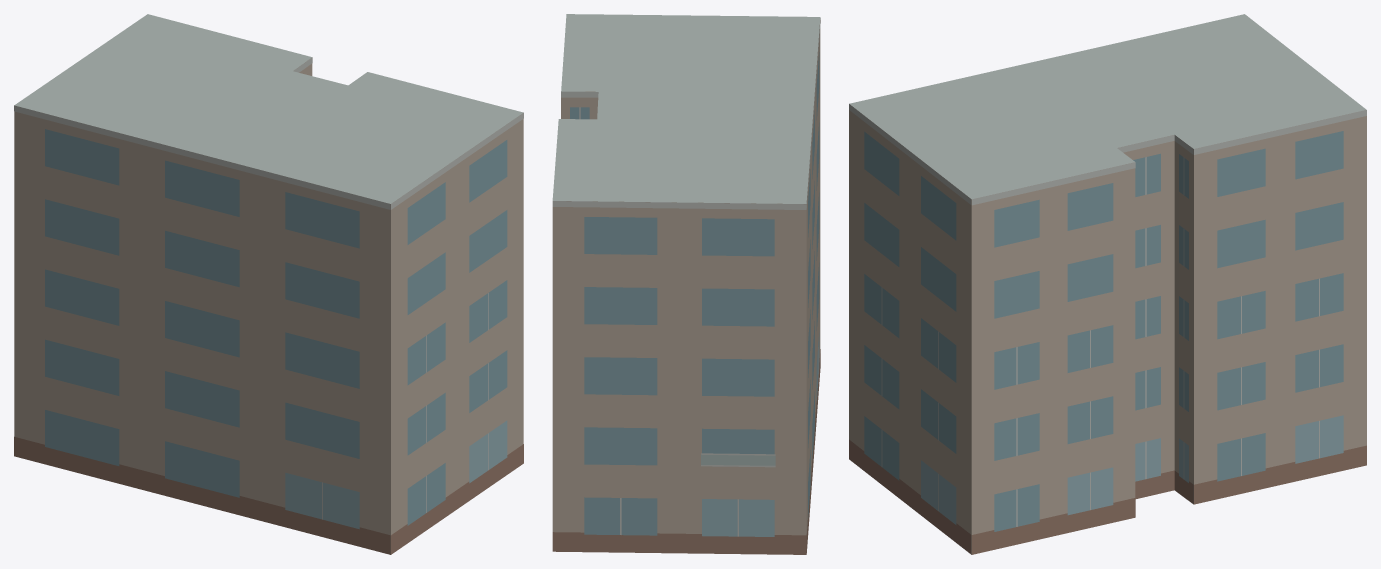
Rendered from survey-upis-32707307.glb.
3 renders of one model, left to right at view 1: azimuth 30°, elevation 25°; view 2: azimuth 150°, elevation 25°; view 3: azimuth 270°, elevation 25°, orthographic.
Visible parts, largest first — view 1: survey-upis-32707307.tmp; view 2: survey-upis-32707307.tmp; view 3: survey-upis-32707307.tmp.
Part boxes in pixels (x1,y1,x2,y2): survey-upis-32707307.tmp: [14, 14, 523, 554]; survey-upis-32707307.tmp: [552, 14, 820, 554]; survey-upis-32707307.tmp: [849, 14, 1366, 554].
Size of the model in its own units: 15.94 by 14.25 by 18.82.
